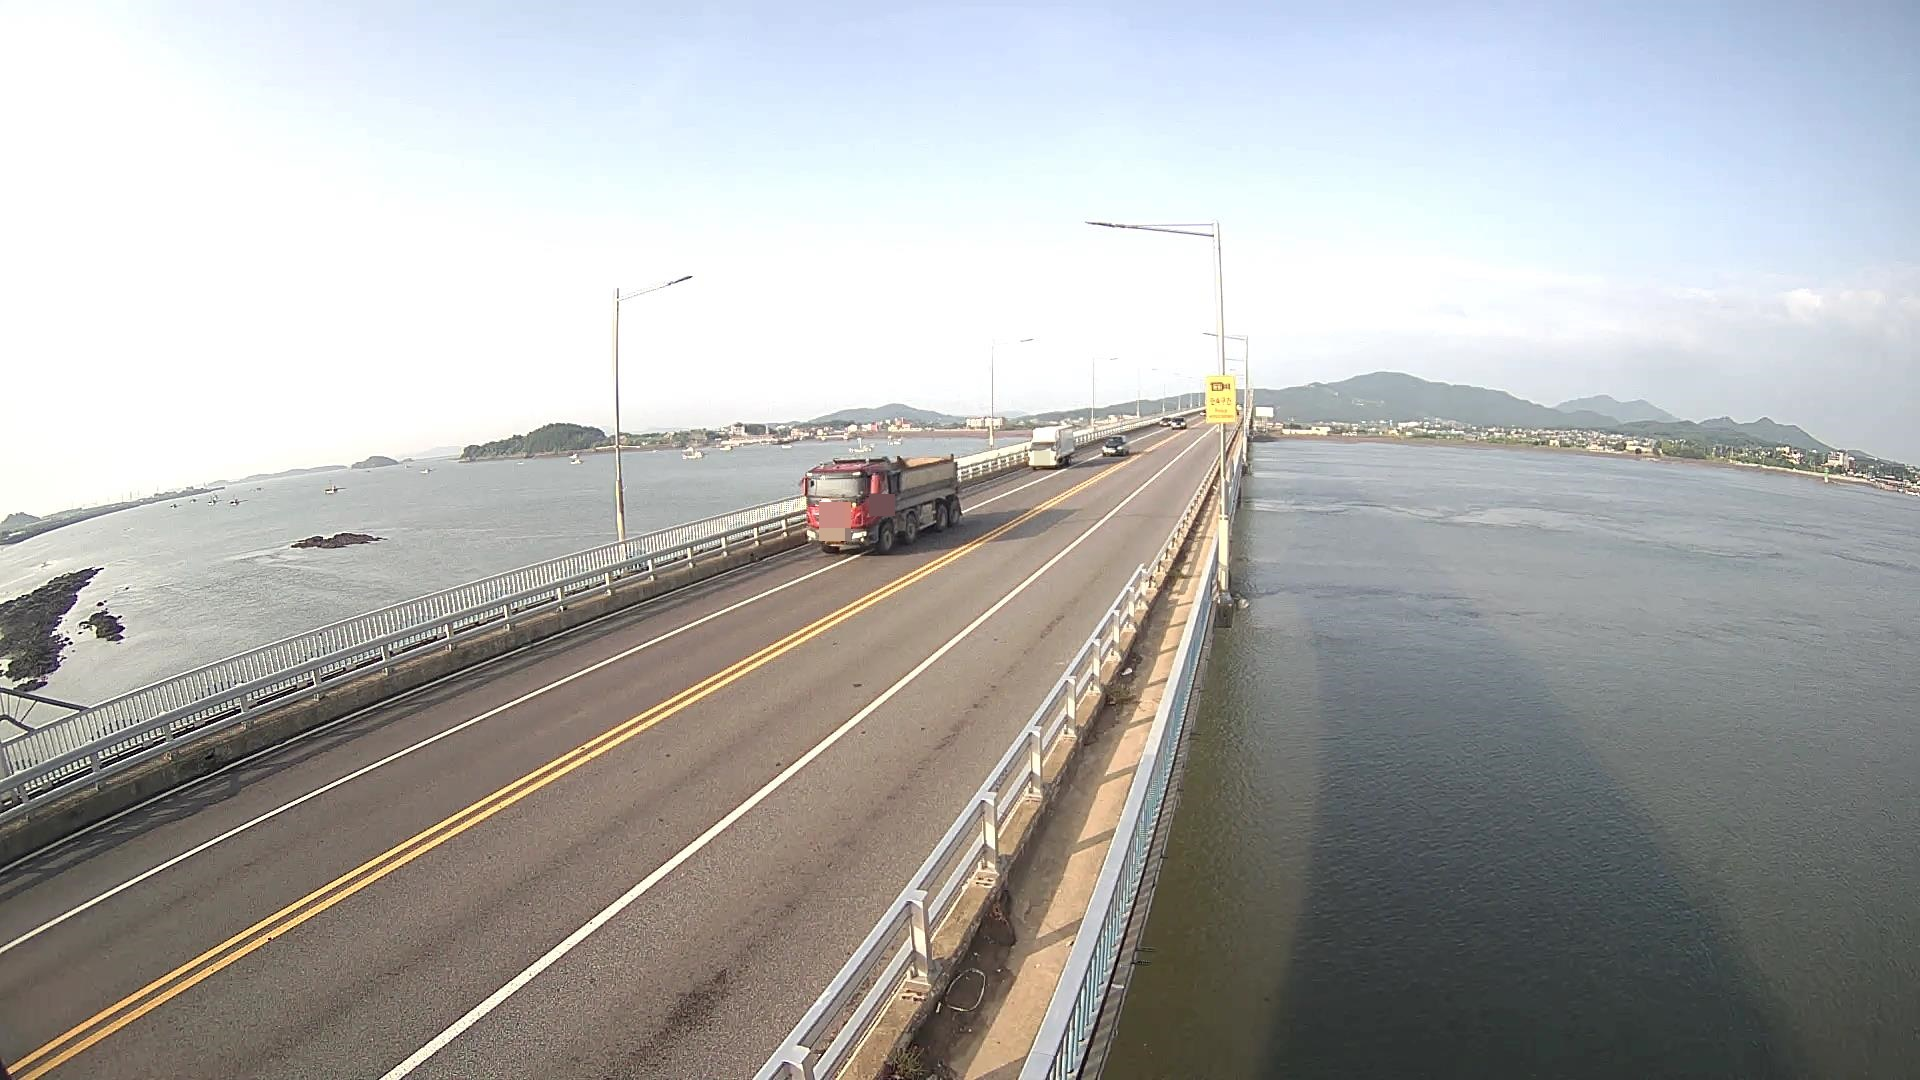정상차량: (798, 454, 964, 553)
